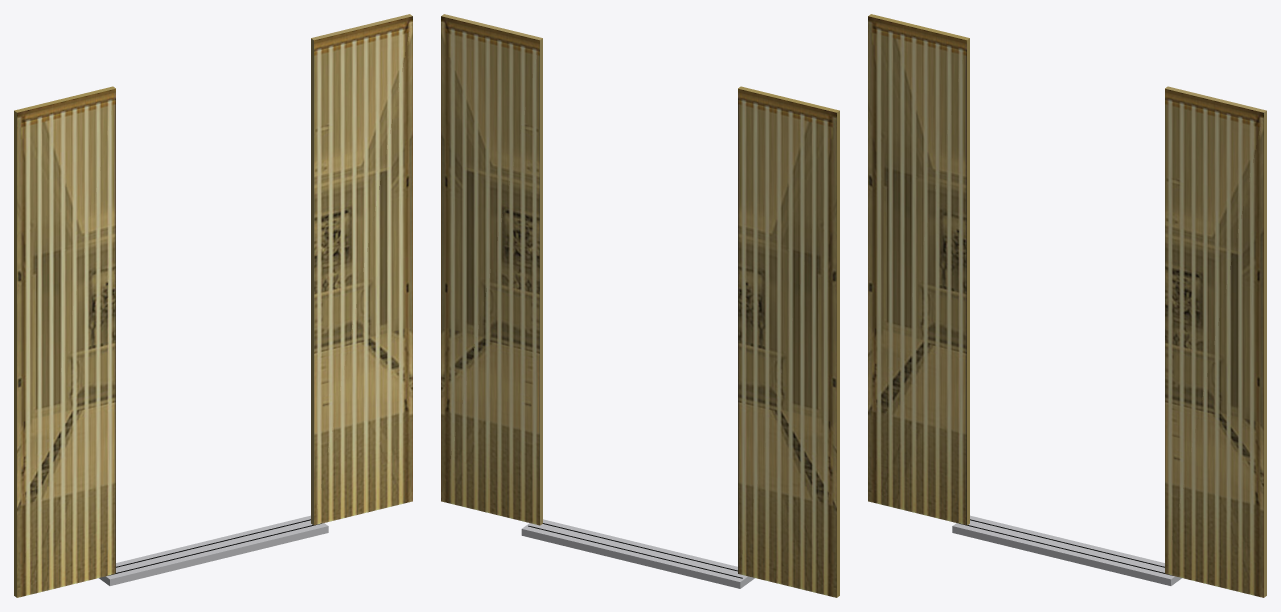
File: cabin_door_TM021.glb
3 renders of one model, left to right at view 1: azimuth 30°, elevation 25°; view 2: azimuth 150°, elevation 25°; view 3: azimuth 330°, elevation 25°, orthographic.
Parts seen in each view (by area): view 1: Car_Door_L, Car_Door_R, Door_Sill; view 2: Car_Door_L, Car_Door_R, Door_Sill; view 3: Car_Door_R, Car_Door_L, Door_Sill.
Boxes of the visible parts, box(x1,y1,x2,y2) form: Car_Door_L: box(14, 86, 115, 597); Car_Door_R: box(311, 14, 412, 525); Door_Sill: box(99, 515, 328, 585); Car_Door_L: box(738, 86, 839, 597); Car_Door_R: box(441, 14, 542, 525); Door_Sill: box(521, 519, 754, 588); Car_Door_R: box(1165, 86, 1266, 597); Car_Door_L: box(868, 14, 969, 525); Door_Sill: box(952, 515, 1181, 585).
Bounding box in the file's own units: 1.81 × 2.15 × 0.12.
3 materials, 1 textured.
